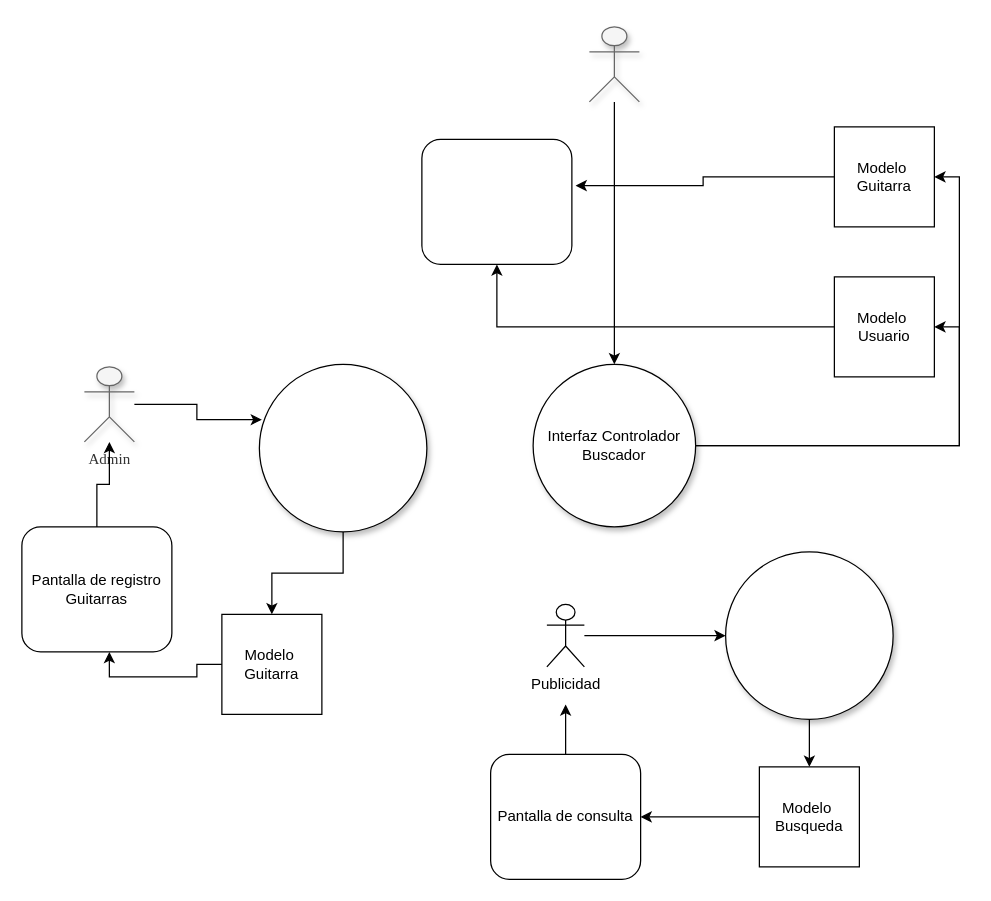
Image size: 991x901. Some labels were removed from this diagram. Each missing label, with the centre of its shape:
"Interfaz Controlador CRUD" goes at (343,449).
"Interfaz Controlador estadísticas" goes at (810,637).
"Pantalla de registro Usuarios Resultados busqueda de guitarras" goes at (496,201).
"Usuario Normal" goes at (615,66).
